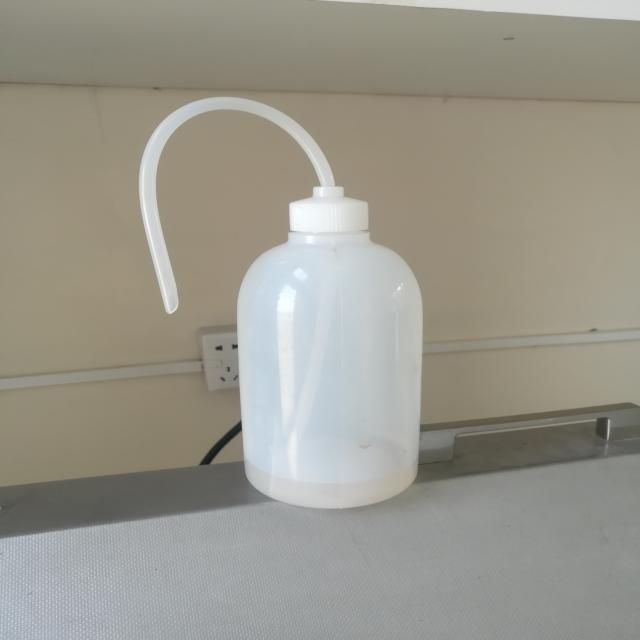Wash_Bottle: (112, 73, 471, 543)
